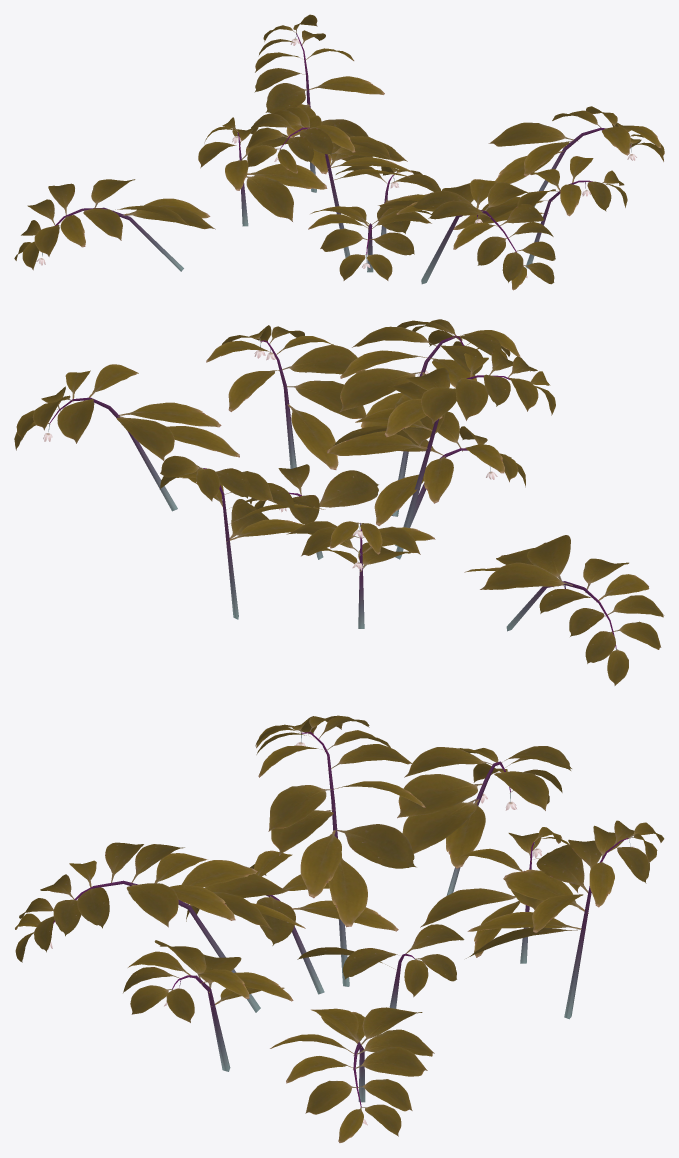
3 views of the same model, one above another, from view 1: azimuth 30°, elevation 25°; view 2: azimuth 150°, elevation 25°; view 3: azimuth 270°, elevation 25° (orthographic). The views are drawn at different scales.
Visible parts, largest first — view 1: SM_UmbS_Lily_02_LOD0; view 2: SM_UmbS_Lily_02_LOD0; view 3: SM_UmbS_Lily_02_LOD0.
Part boxes in pixels (<box>): SM_UmbS_Lily_02_LOD0: <box>14,14,664,290</box>; SM_UmbS_Lily_02_LOD0: <box>14,319,664,685</box>; SM_UmbS_Lily_02_LOD0: <box>15,715,664,1142</box>.
Size of the model in its own units: 2 by 0.5574 by 1.49.
Materials: 1 (1 with a texture image).
